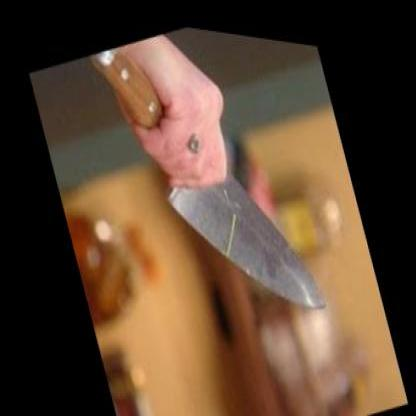knife: (129, 59, 338, 364)
